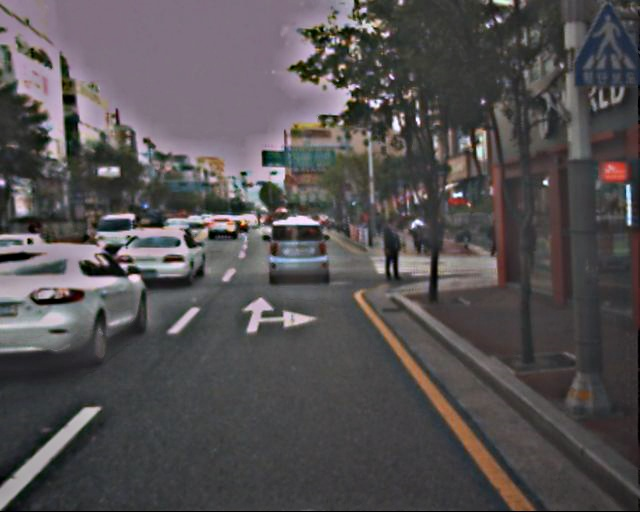person: (379, 223, 403, 281), (410, 218, 435, 253)
